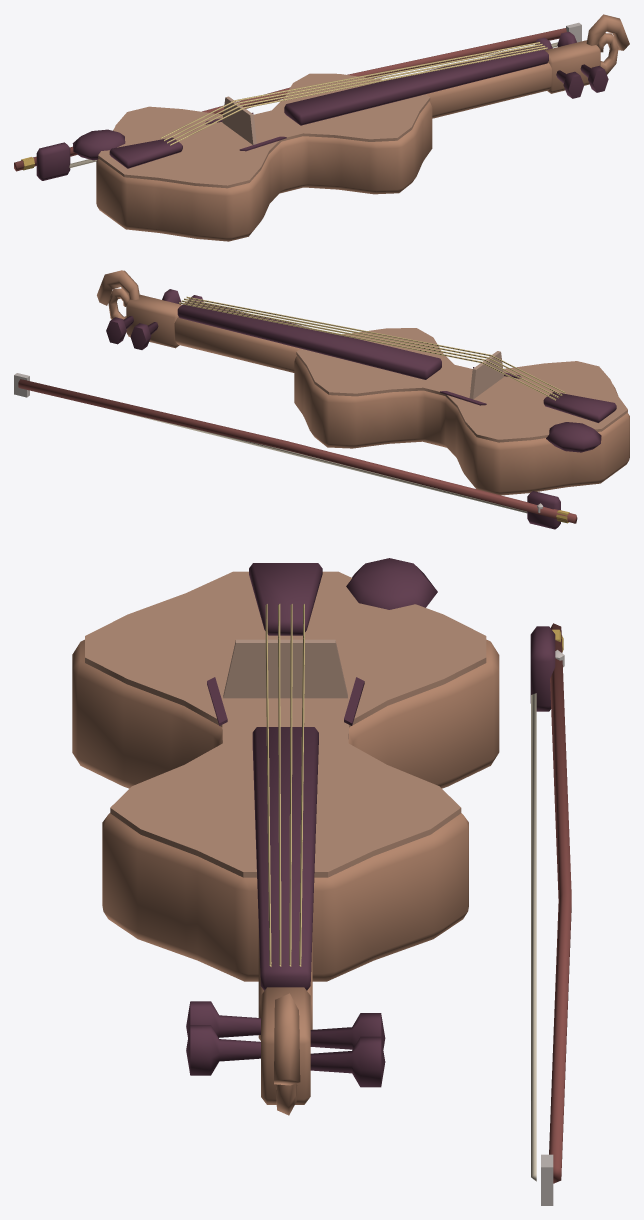
File: fiddle_and_bow.glb
3 renders of one model, top to bottom at view 1: azimuth 30°, elevation 25°; view 2: azimuth 150°, elevation 25°; view 3: azimuth 270°, elevation 25°, orthographic. The views are drawn at different scales.
Parts seen in each view (by area): view 1: fiddle_and_bow; view 2: fiddle_and_bow; view 3: fiddle_and_bow.
Boxes of the visible parts, box(x1,y1,x2,y2) form: fiddle_and_bow: box(14, 14, 629, 241); fiddle_and_bow: box(14, 270, 629, 529); fiddle_and_bow: box(72, 558, 571, 1205).
Size of what is drawn, in the model's own units: 0.65 by 0.1 by 0.25.
